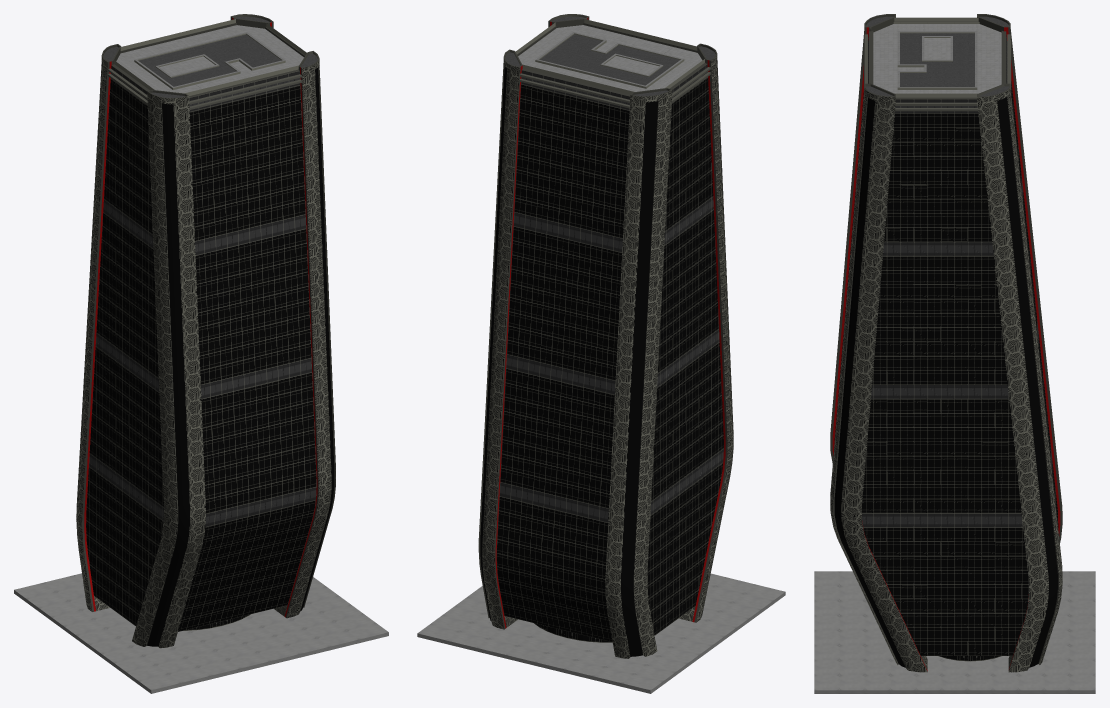
3 views of the same model, side by side, from view 1: azimuth 30°, elevation 25°; view 2: azimuth 150°, elevation 25°; view 3: azimuth 270°, elevation 25° (orthographic). The views are drawn at different scales.
Parts seen in each view (by area): view 1: UTOPIA 7; view 2: UTOPIA 7; view 3: UTOPIA 7.
Boxes of the visible parts, left/top/right/bottom form: UTOPIA 7: left=14, top=14, right=388, bottom=693; UTOPIA 7: left=417, top=14, right=785, bottom=693; UTOPIA 7: left=814, top=14, right=1095, bottom=693.
Bounding box in the file's own units: 160 × 363 × 160.
Materials: 1 (1 with a texture image).
